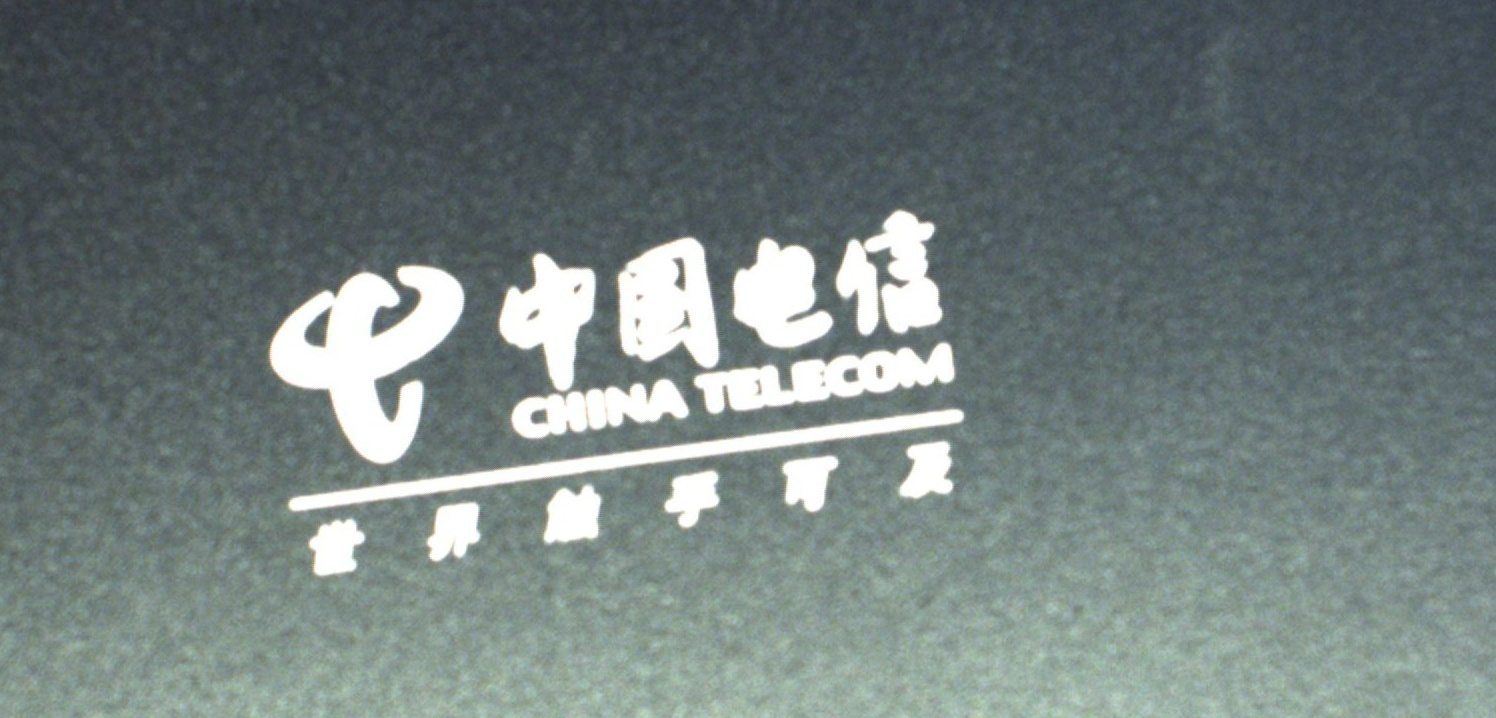AB_ChinaTelecom: (243, 207, 977, 582)
